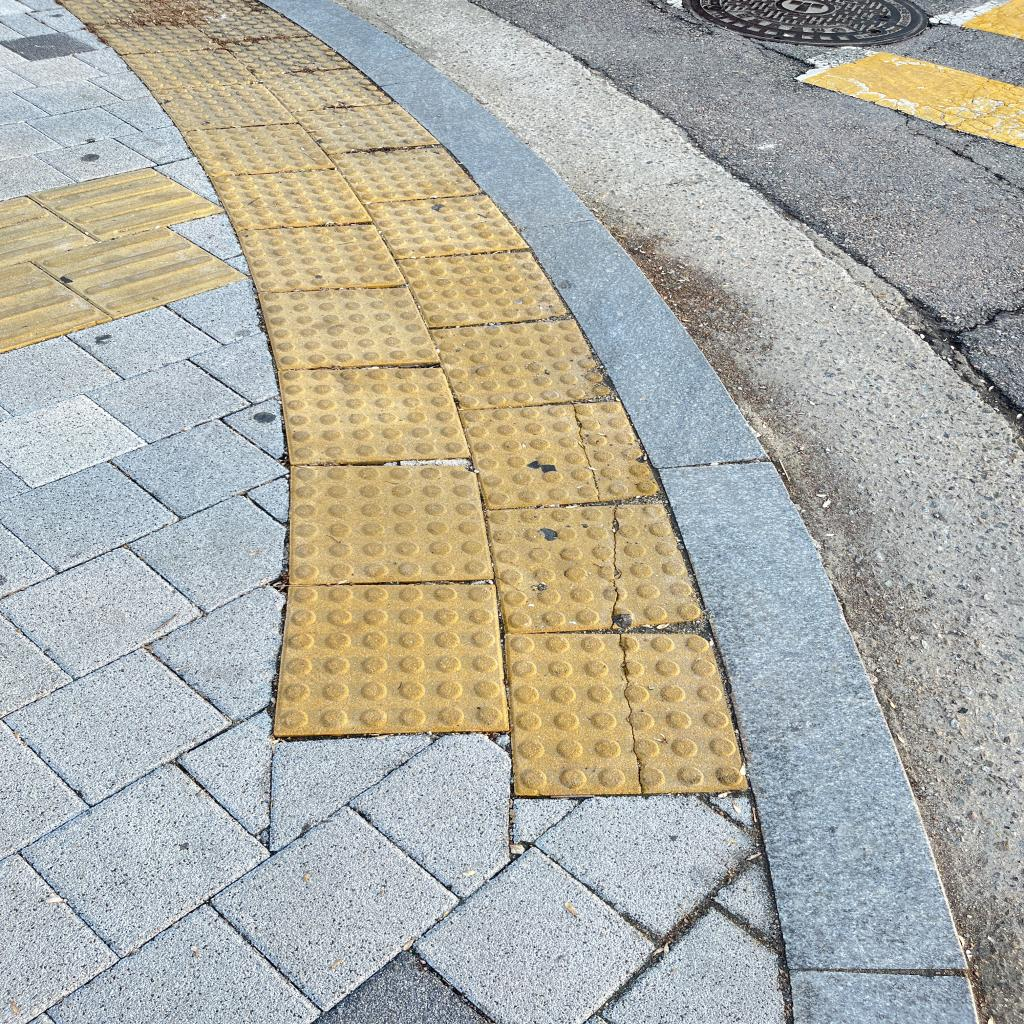Stop block broken: (508, 628, 744, 795), (489, 499, 705, 631), (461, 395, 660, 508)
Stop block normal: (273, 583, 506, 734), (288, 464, 493, 582), (279, 365, 470, 463), (433, 314, 612, 411), (259, 286, 438, 368), (398, 246, 569, 330), (239, 222, 405, 292), (367, 190, 528, 261), (213, 167, 370, 231), (331, 141, 480, 206), (183, 120, 334, 178), (293, 99, 437, 156), (152, 81, 298, 131), (258, 61, 391, 115)
Straight block normal: (36, 205, 246, 333), (32, 151, 223, 254)
